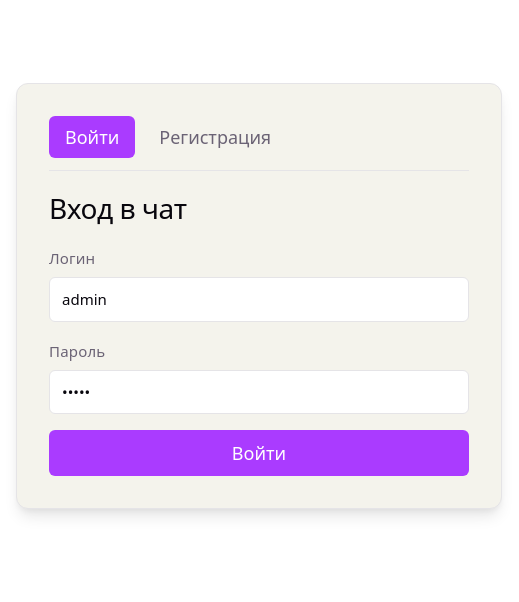
Scenario: App › registration › rejects mismatched password confirmation
Click the button "Регистрация" at (215, 137), box top-left (143, 116), bottom-right (287, 158)
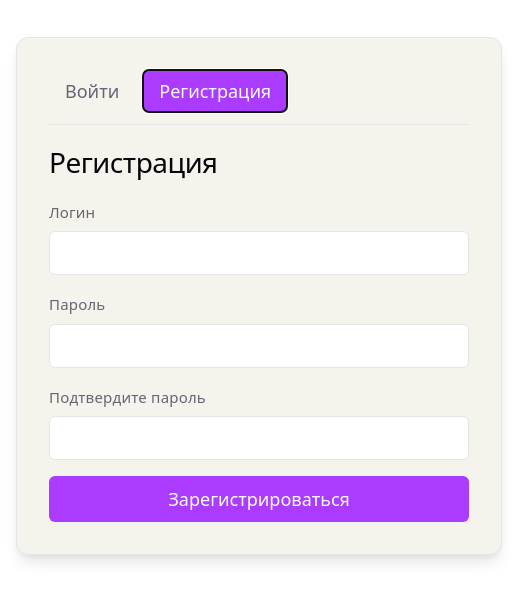
Type "newbie" into the field labelled "Логин" at (259, 253), box top-left (49, 231), bottom-right (469, 276)
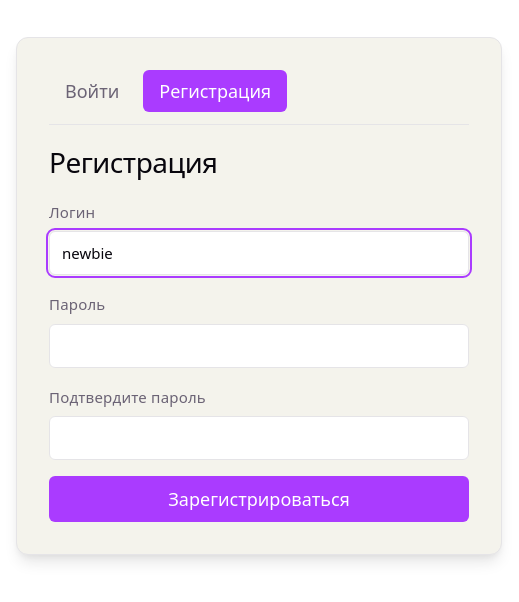
Type "secret" into the password field labelled "Пароль" at (259, 346), box top-left (49, 324), bottom-right (469, 368)
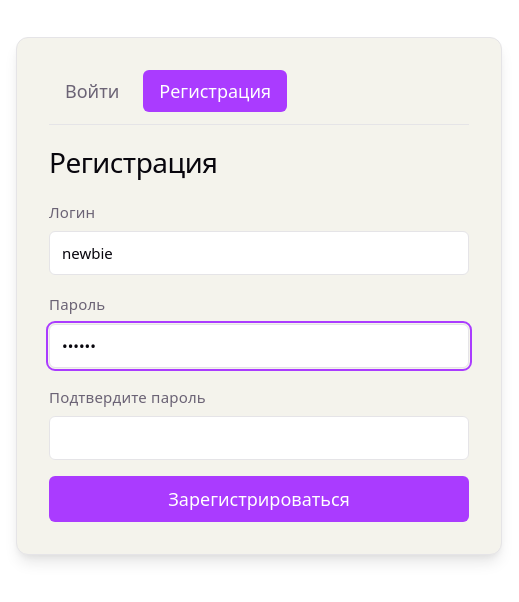
Type "secreT" into the password field labelled "Подтвердите пароль" at (259, 438), box top-left (49, 416), bottom-right (469, 460)
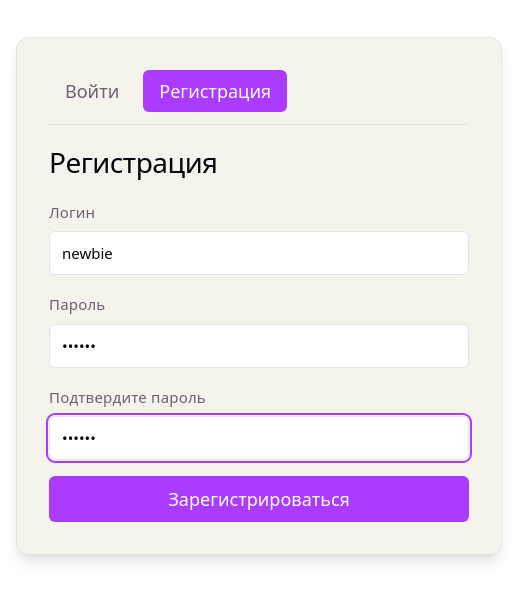
Click the button "Зарегистрироваться" at (259, 499), box top-left (49, 476), bottom-right (469, 522)
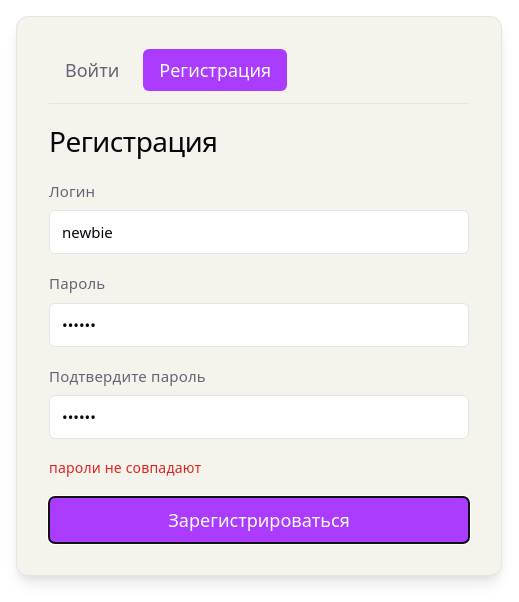
Now the text "пароли не совпадают" is shown, box top-left (49, 458), bottom-right (201, 477)
